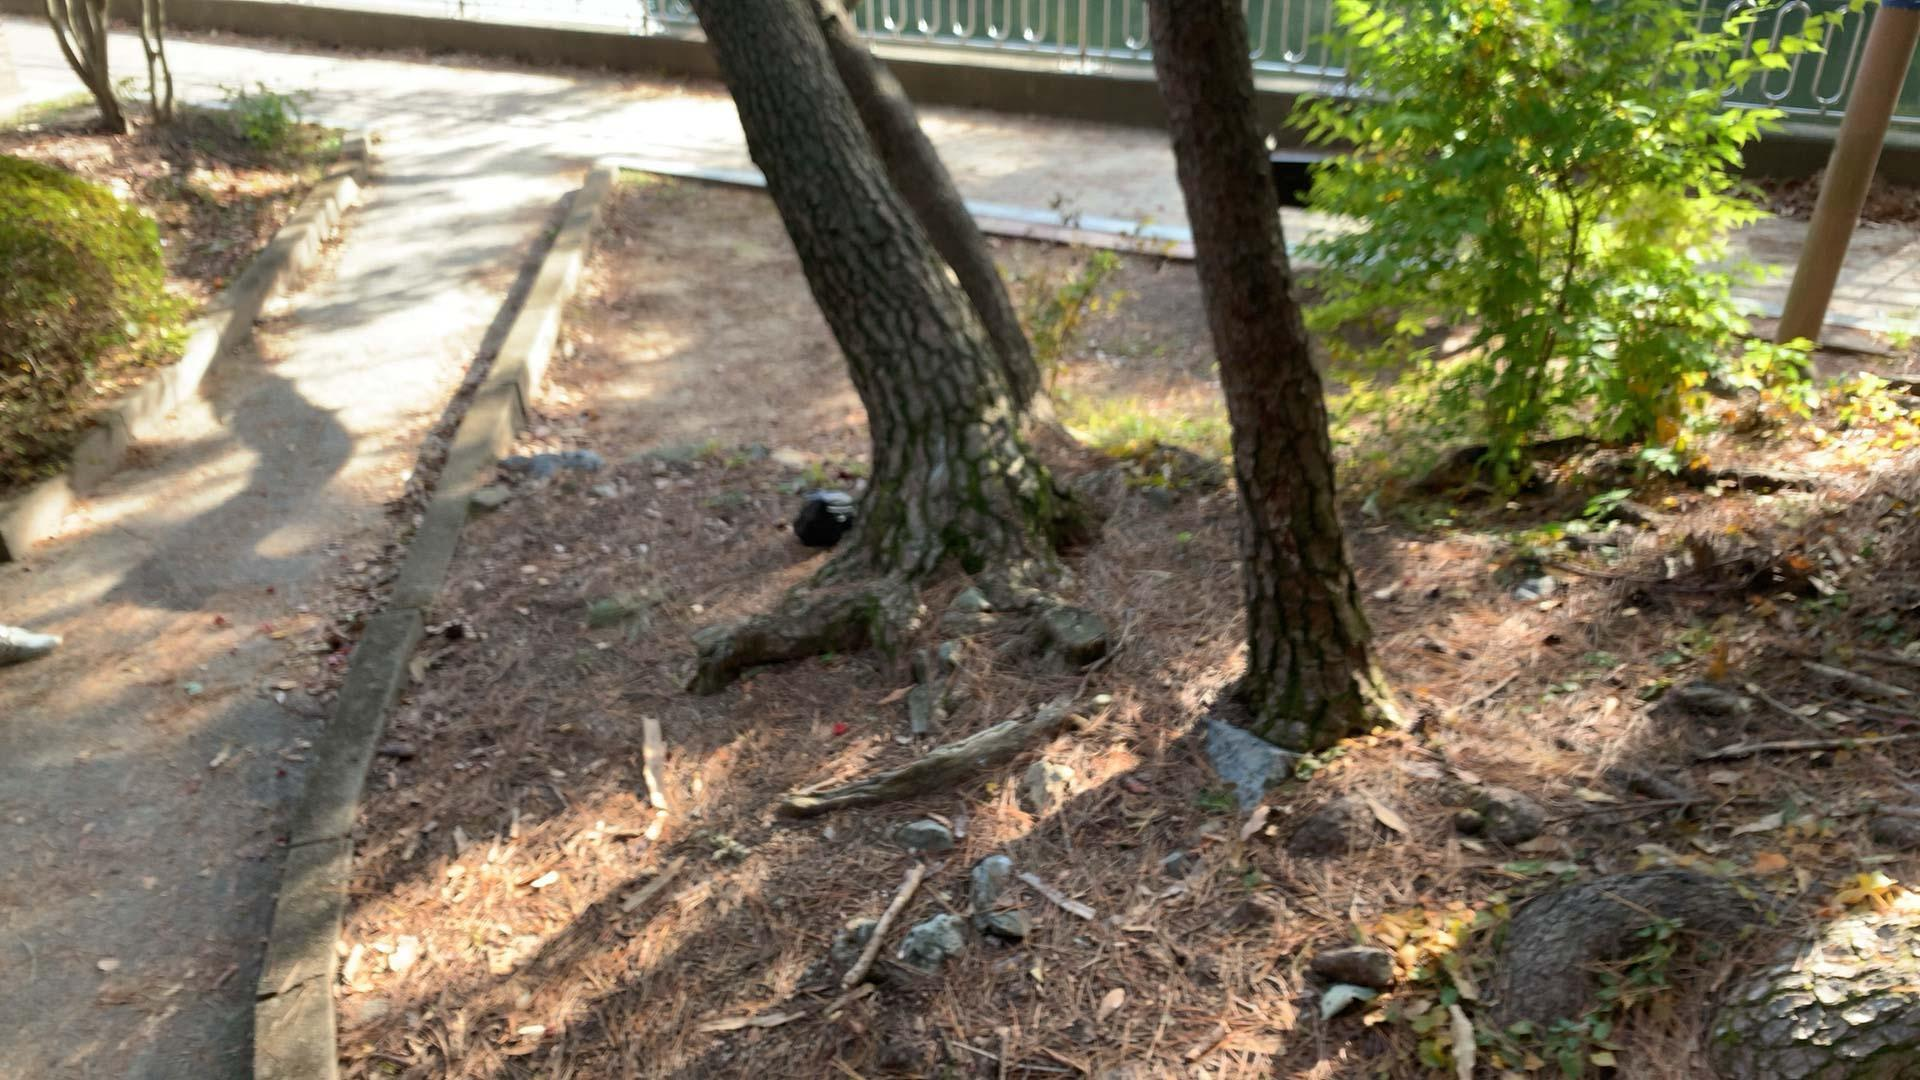black_bag: (787, 483, 862, 551)
